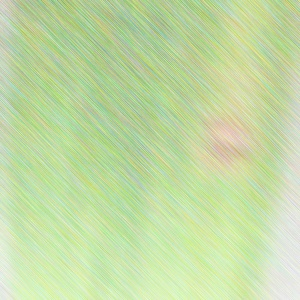Brown_Spot: (175, 83, 258, 178)
